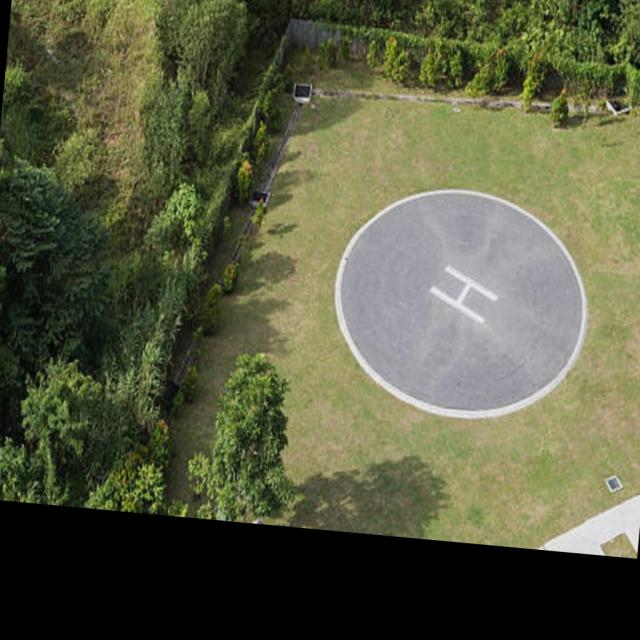helipad: (329, 182, 590, 424)
